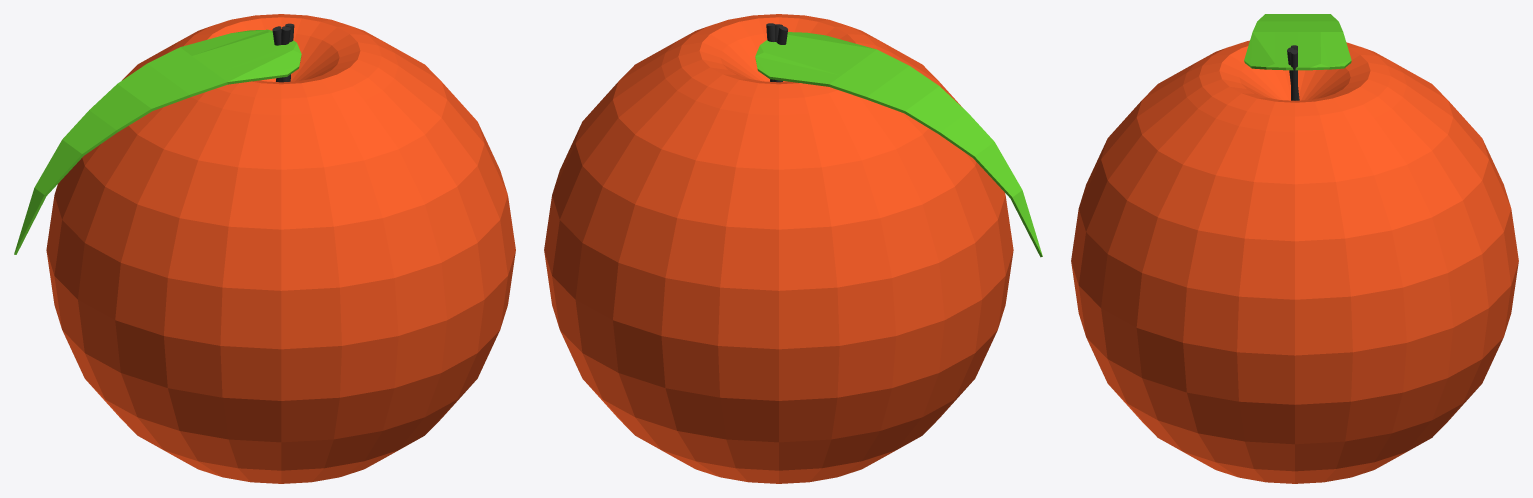
Rendered from Orange.glb.
The picture shows the model from 3 angles, left to right: view 1: azimuth 30°, elevation 25°; view 2: azimuth 150°, elevation 25°; view 3: azimuth 270°, elevation 25°; orthographic projection. The views are drawn at different scales.
Parts seen in each view (by area): view 1: Sphere001, Plane002; view 2: Sphere001, Plane002; view 3: Sphere001, Plane002.
Part boxes in pixels (<box>): Sphere001: <box>46,14,515,483</box>; Plane002: <box>14,29,301,254</box>; Sphere001: <box>544,14,1013,483</box>; Plane002: <box>755,32,1042,257</box>; Sphere001: <box>1071,40,1518,483</box>; Plane002: <box>1244,14,1351,70</box>.
Bounding box in the file's own units: 1619686 × 1440540 × 1404649.
